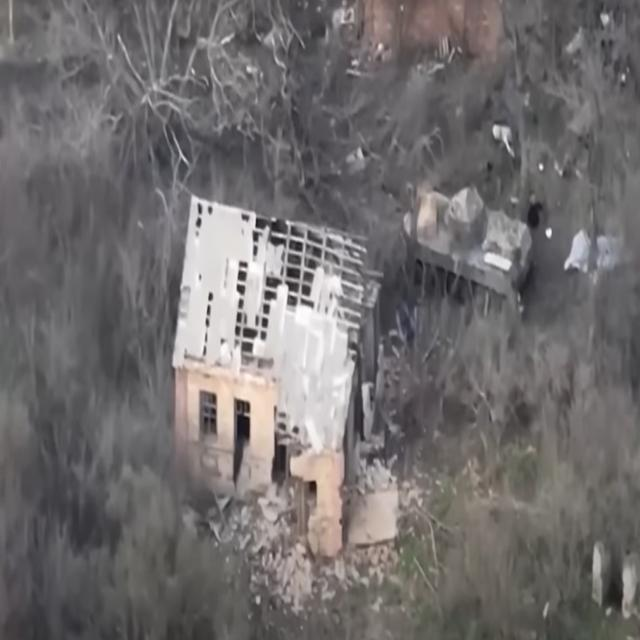AIFV: (401, 170, 536, 332)
